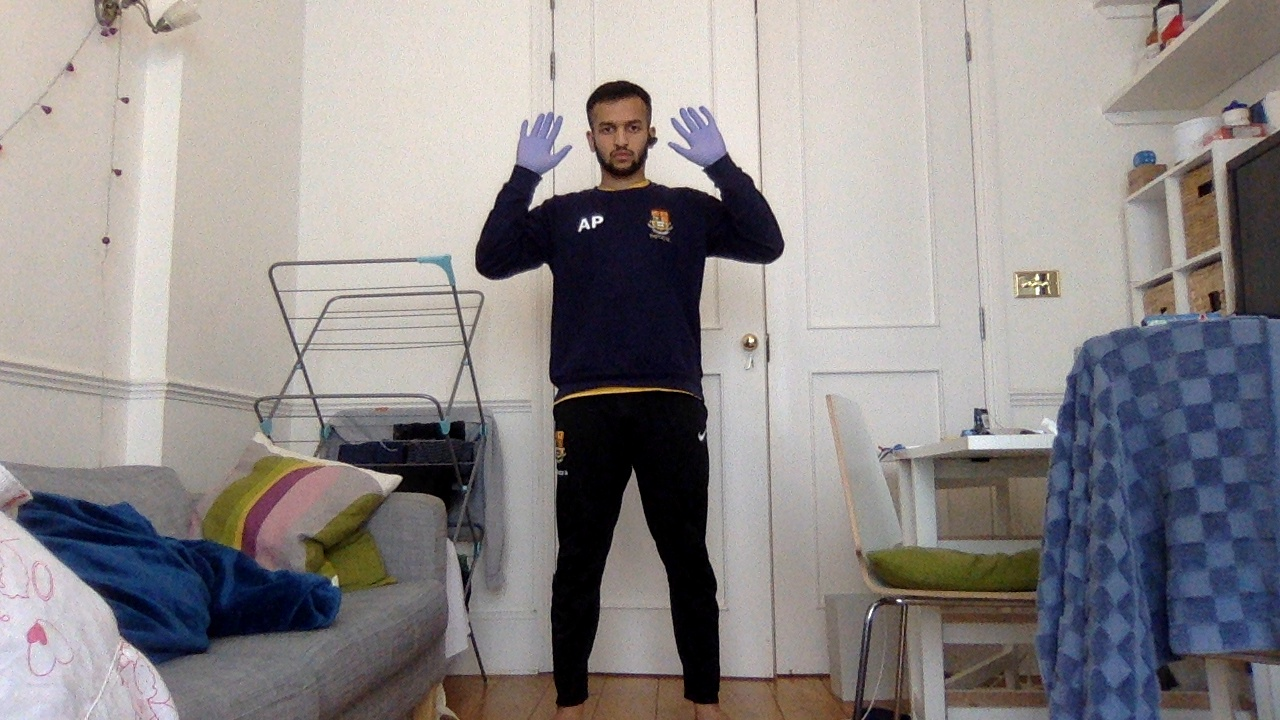glove: (512, 110, 576, 178), (665, 102, 727, 169)
